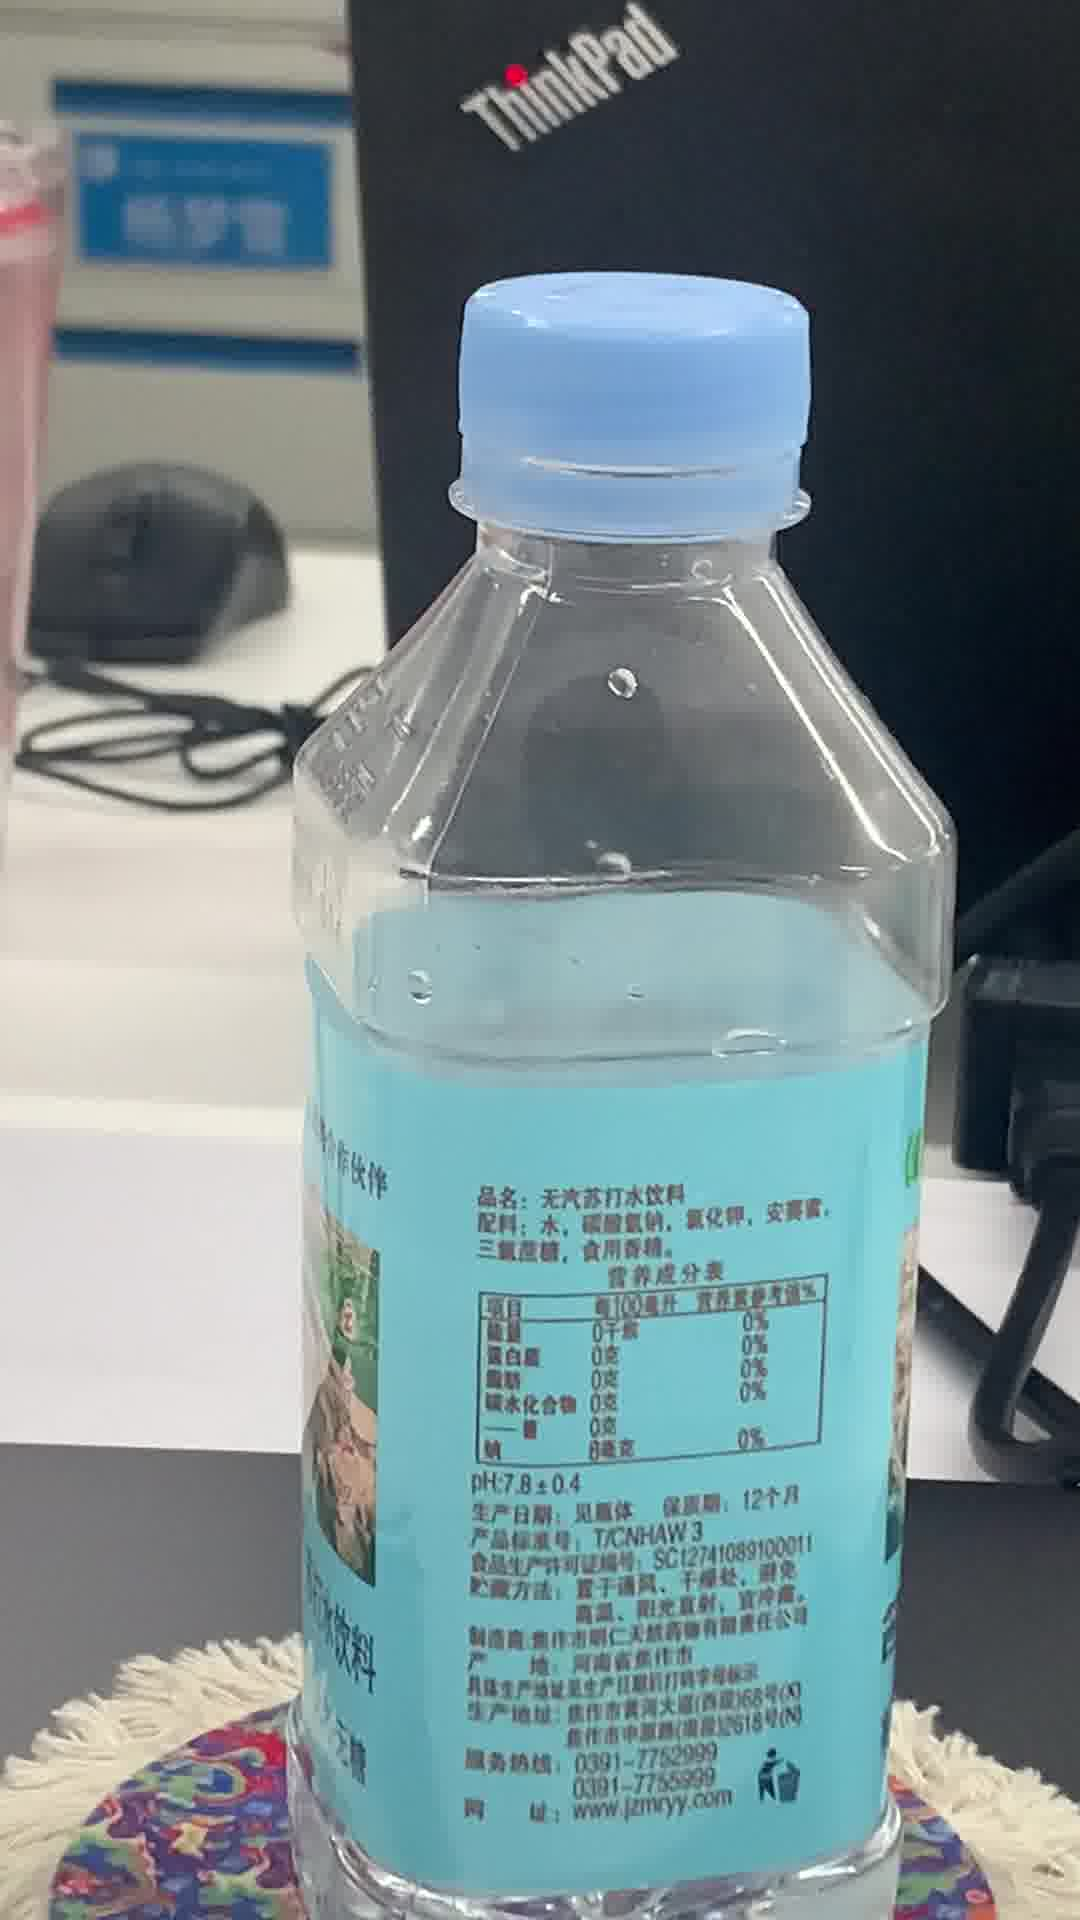水瓶: (277, 257, 913, 1920)
